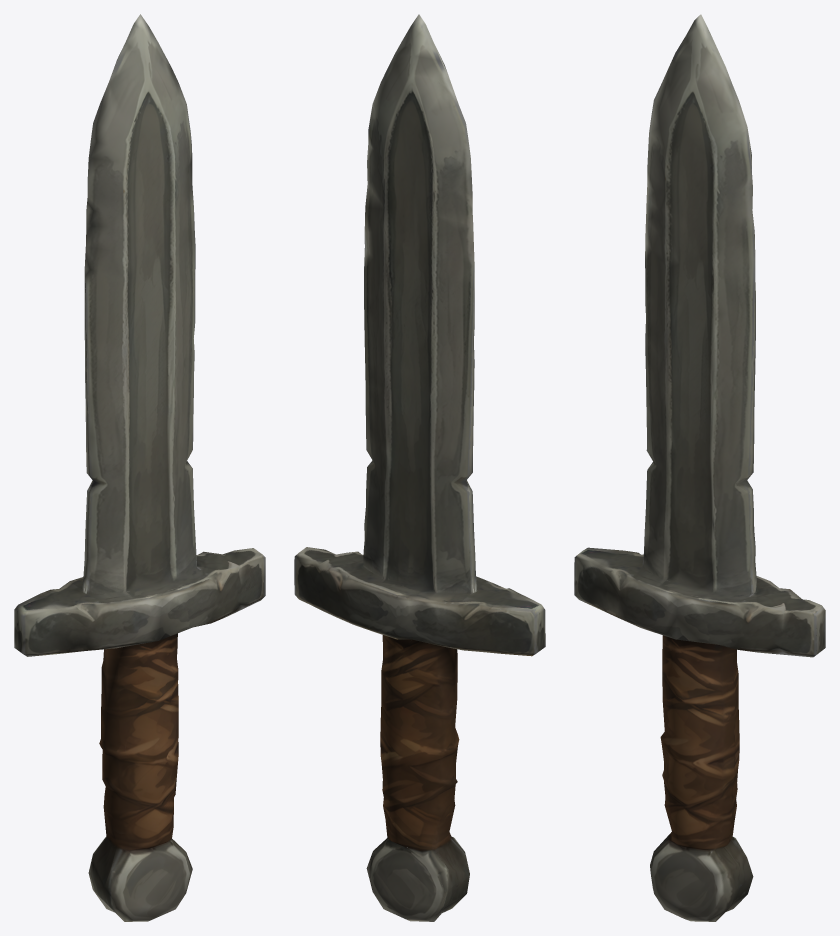
File: Prop_Weapon_Sword.fbx
3 views of the same model, side by side, from view 1: azimuth 30°, elevation 25°; view 2: azimuth 150°, elevation 25°; view 3: azimuth 330°, elevation 25° (orthographic).
Parts seen in each view (by area): view 1: texture_mapping; view 2: texture_mapping; view 3: texture_mapping.
Boxes of the visible parts, left/top/right/bottom form: texture_mapping: left=14, top=14, right=265, bottom=921; texture_mapping: left=294, top=14, right=545, bottom=921; texture_mapping: left=574, top=14, right=825, bottom=921.
Bounding box in the file's own units: 0.2821 × 0.091 × 0.9988.
Materials: 1 (1 with a texture image).
